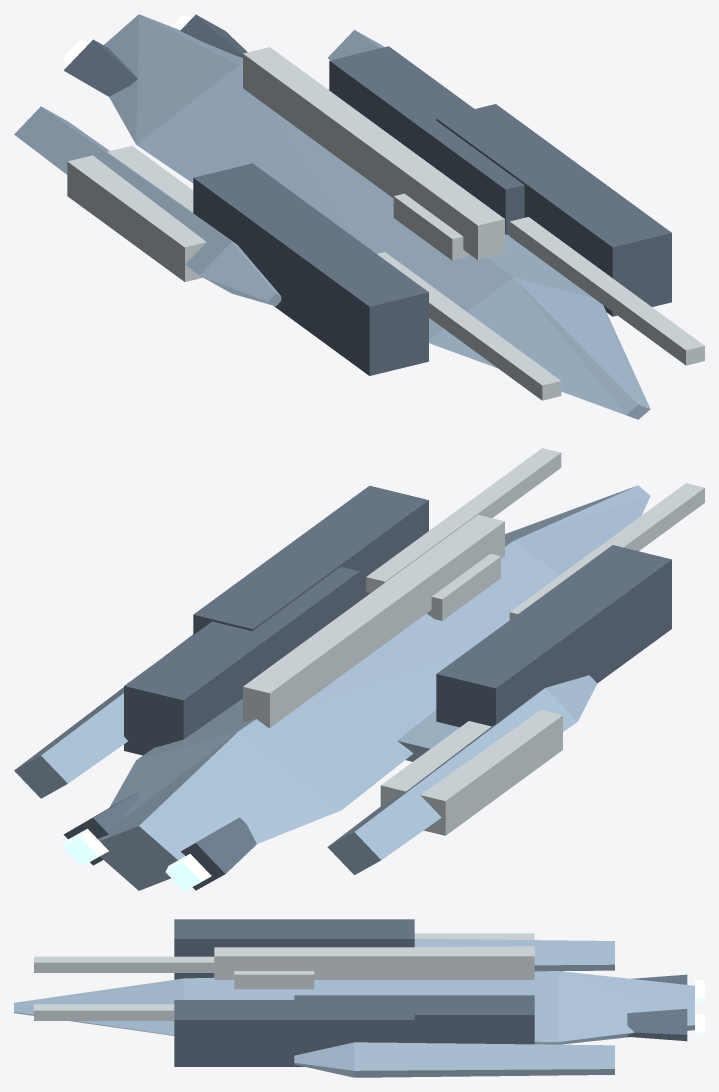
3 renders of one model, top to bottom at view 1: azimuth 30°, elevation 25°; view 2: azimuth 150°, elevation 25°; view 3: azimuth 270°, elevation 25°, orthographic. The views are drawn at different scales.
Size of the model in its own units: 3.36 by 1.16 by 7.8.
